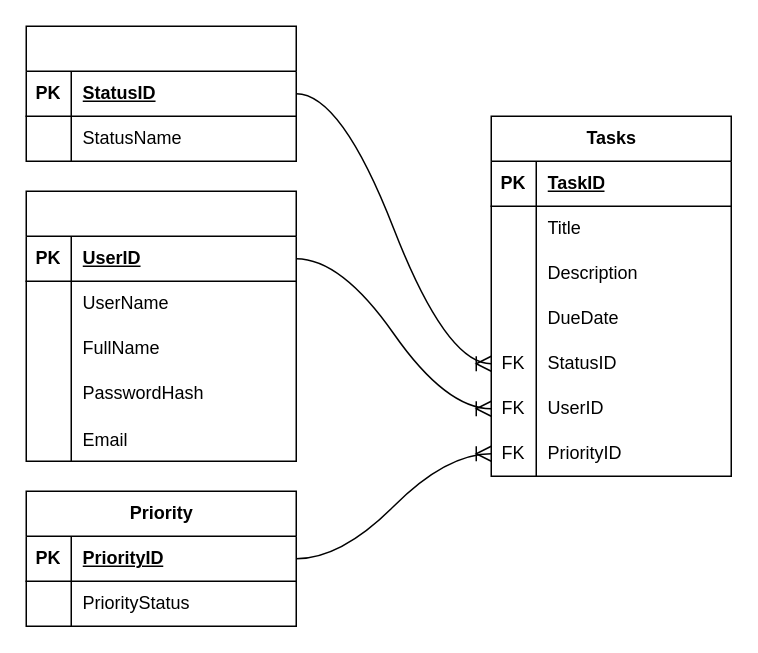
Image size: 758x653. Some labels were removed from this diagram. Here are the shapes that lost their labels. From the top down, the box of each, then its label:
(25, 25, 296, 161): TaskStatus
(25, 190, 296, 461): Users
